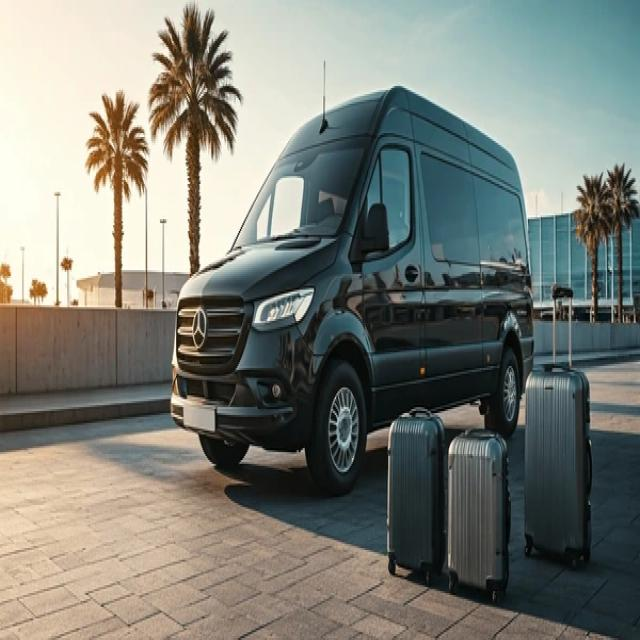mercedes: (191, 309, 207, 348)
